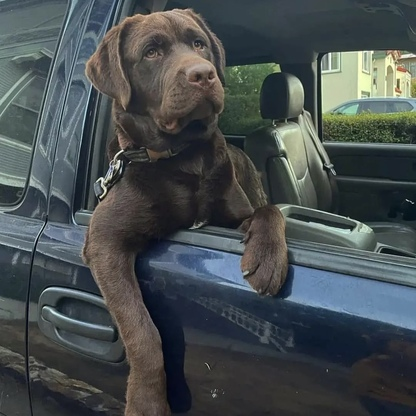labrado: (78, 6, 299, 416)
